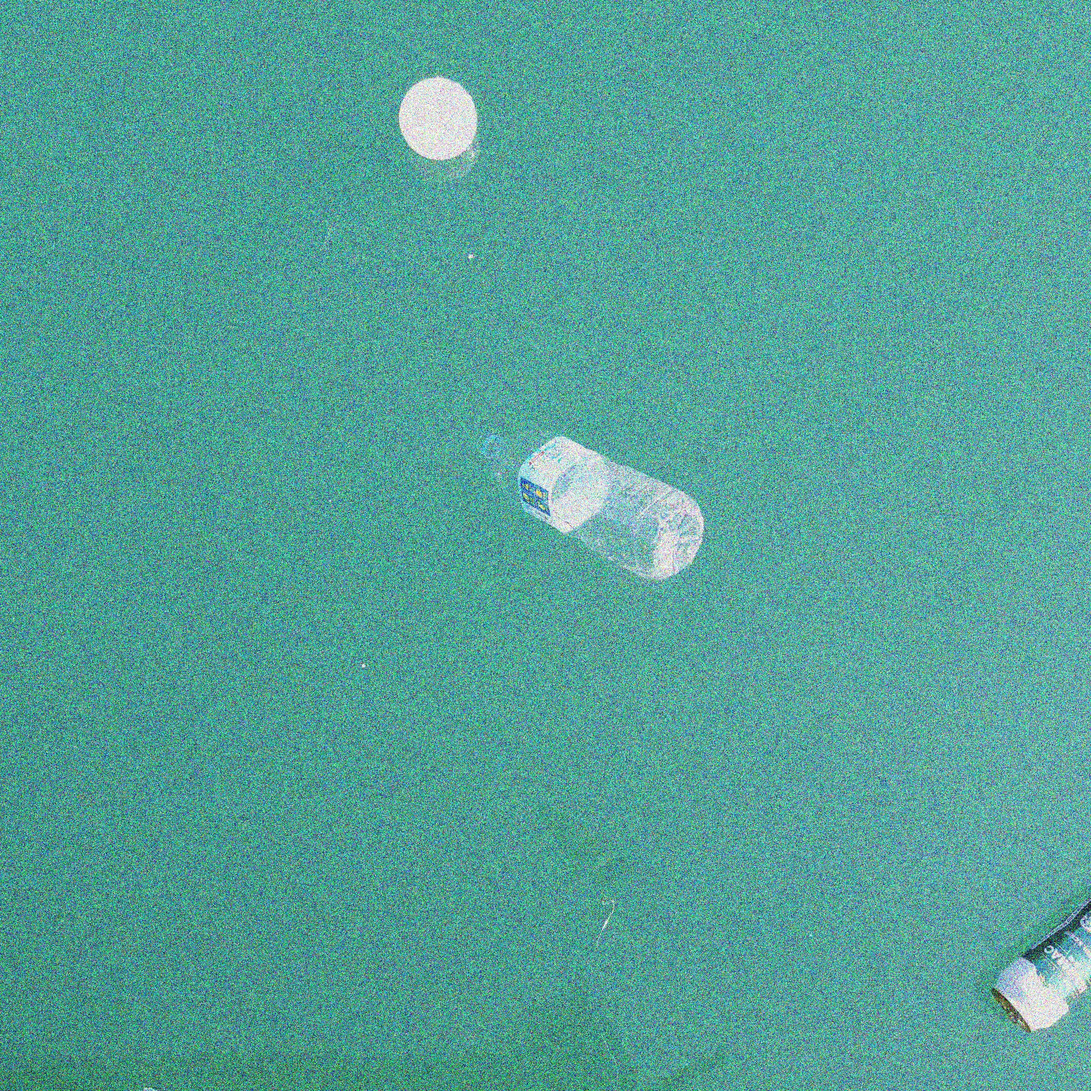sampah_terapung: (477, 430, 704, 581), (991, 898, 1091, 1033), (399, 77, 478, 161)
